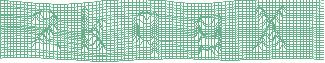2: (29, 8, 62, 53)
X: (252, 5, 288, 52)
g: (192, 13, 224, 58)
k: (79, 5, 108, 54)
q: (131, 10, 161, 59)
